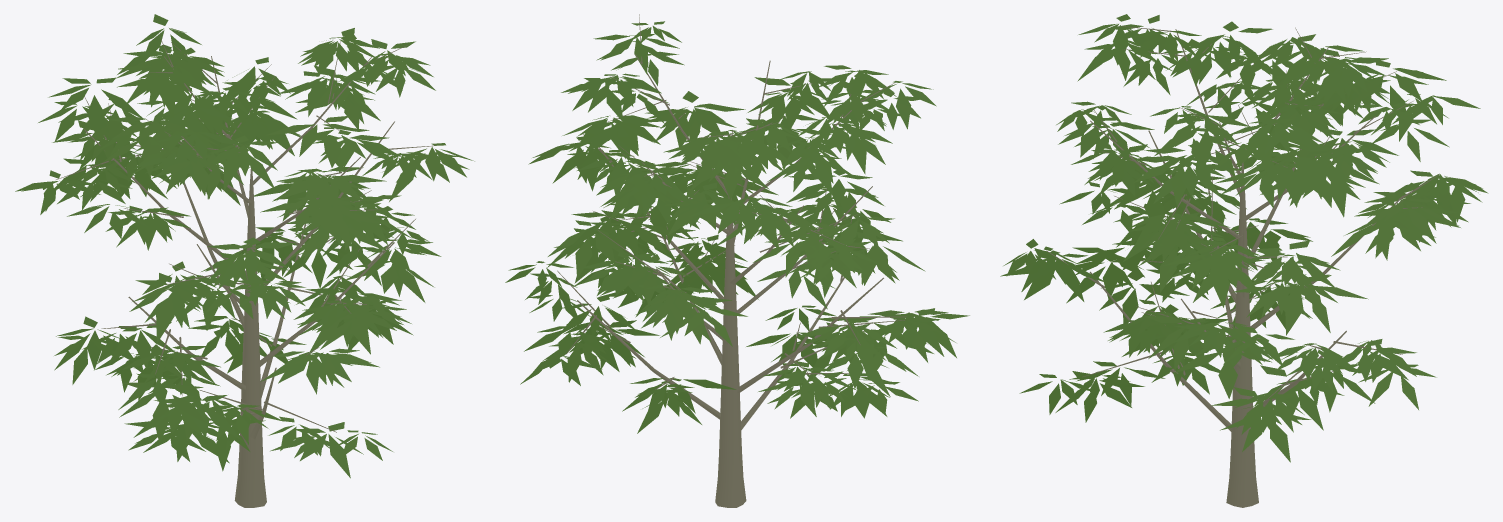
Rendered from Blender_BayLaurel_2.glb.
3 renders of one model, left to right at view 1: azimuth 30°, elevation 25°; view 2: azimuth 150°, elevation 25°; view 3: azimuth 270°, elevation 25°, orthographic. The views are drawn at different scales.
Visible parts, largest first — view 1: Blender_BayLaurel_2; view 2: Blender_BayLaurel_2; view 3: Blender_BayLaurel_2.
Boxes of the visible parts, x1=… form: Blender_BayLaurel_2: x1=15, y1=14, x2=474, y2=507; Blender_BayLaurel_2: x1=505, y1=14, x2=969, y2=507; Blender_BayLaurel_2: x1=1000, y1=14, x2=1488, y2=507.
Bounding box in the file's own units: 12.15 × 12.87 × 12.54.
